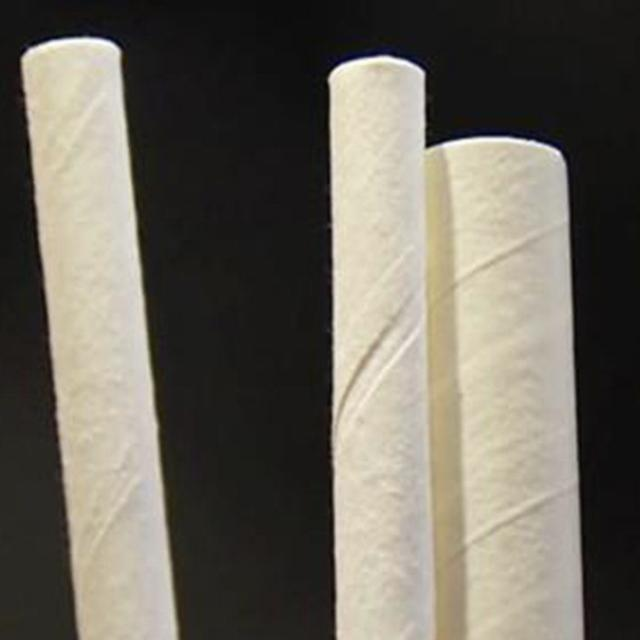biodegradable: (9, 19, 227, 640), (396, 93, 620, 640), (286, 20, 472, 640)
